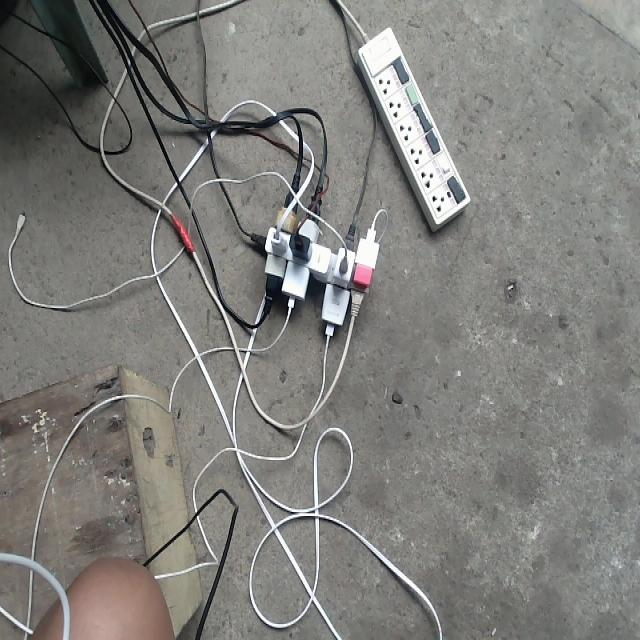-: (250, 189, 377, 328)
